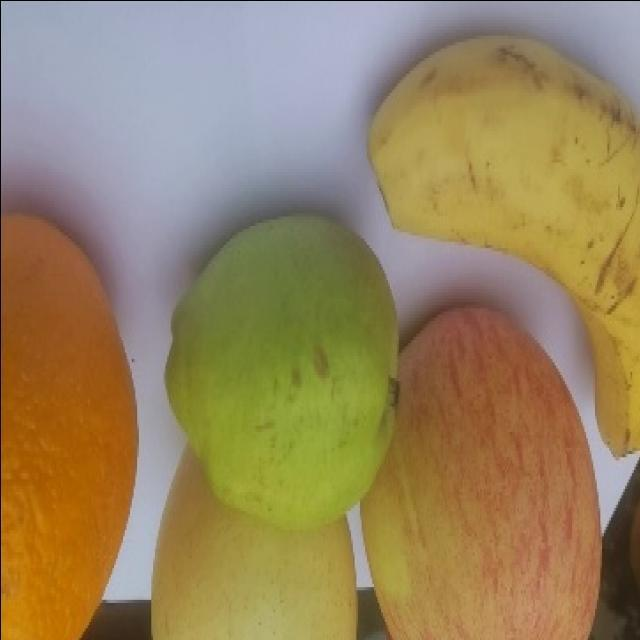Apple: (360, 303, 603, 639)
Banana: (366, 33, 639, 459)
Orange: (0, 211, 139, 638)
